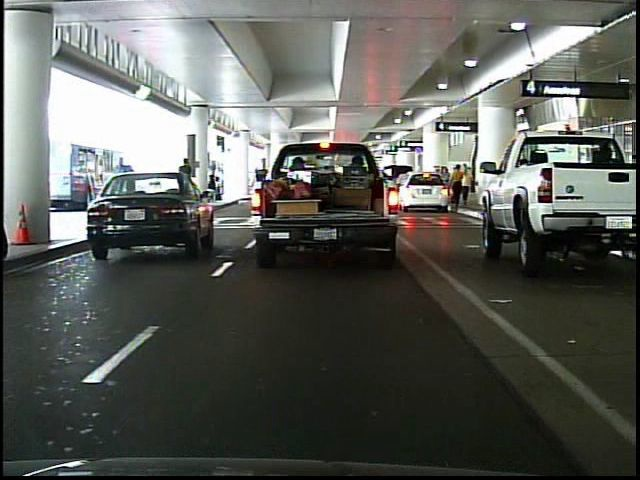person: (102, 153, 136, 224), (175, 154, 199, 213)
